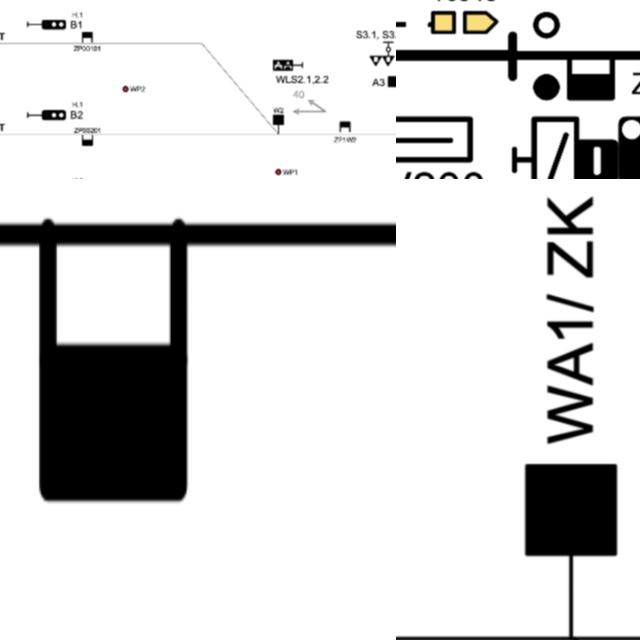radzaehler: (34, 205, 195, 525), (561, 44, 625, 106), (78, 28, 99, 48), (77, 132, 96, 150), (336, 118, 354, 136)
weiche: (511, 454, 633, 640), (270, 110, 288, 142)
